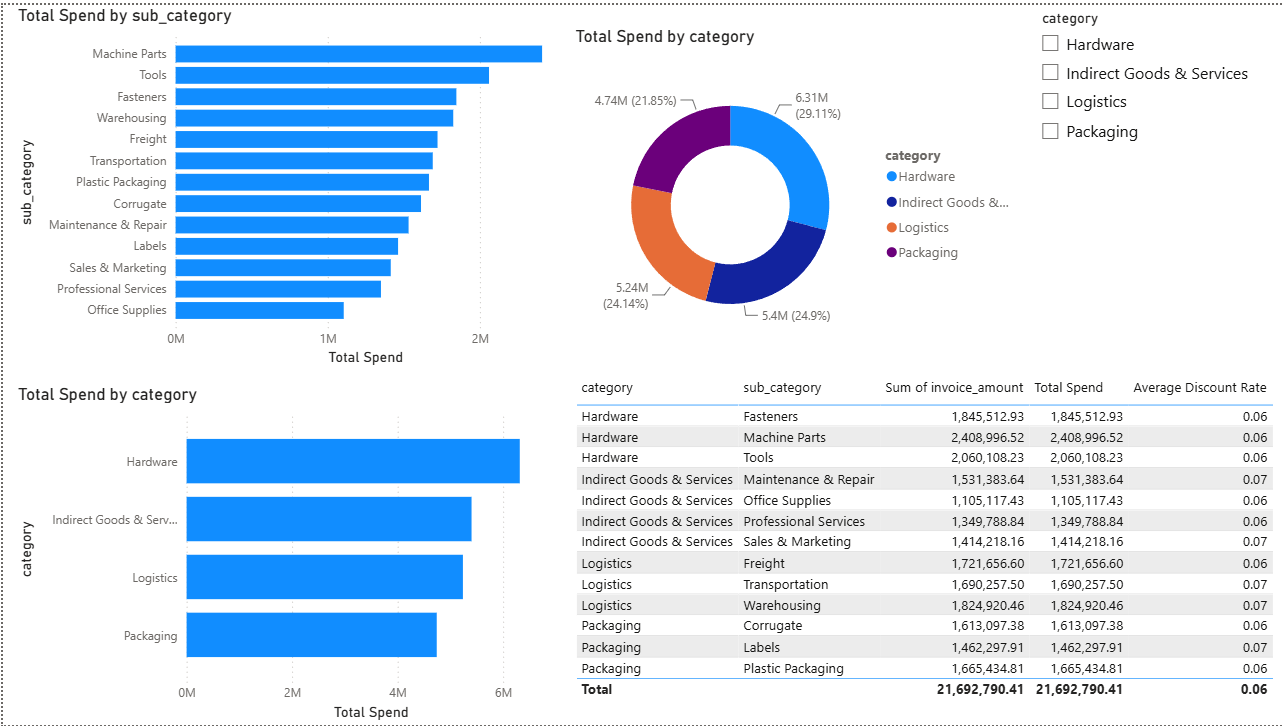

This screenshot's page, from the dashboard's own definition file:
{"tool":"powerbi","page":{"name":"Category Management","canvas":[1280,720],"ordinal":1},"visuals":[{"type":"clusteredBarChart","fields":{"Category":["cleaned_procurement_transactions.sub_category"],"Y":["cleaned_procurement_transactions.Total Spend"]},"box":[10,0,557.1,365.7],"z":0},{"type":"clusteredBarChart","fields":{"Category":["cleaned_procurement_transactions.category"],"Y":["cleaned_procurement_transactions.Total Spend"]},"box":[10,378.6,557.1,341.4],"z":1000},{"type":"donutChart","fields":{"Category":["cleaned_procurement_transactions.category"],"Y":["cleaned_procurement_transactions.Total Spend"]},"box":[567.1,21.4,452.9,338.6],"z":2000},{"type":"tableEx","fields":{"Values":["cleaned_procurement_transactions.category","cleaned_procurement_transactions.sub_category","Sum(cleaned_procurement_transactions.invoice_amount)","Sum(cleaned_procurement_transactions.discount_rate)","cleaned_procurement_transactions.Total Spend"]},"box":[567.1,365.7,712.9,354.3],"z":2001},{"type":"slicer","fields":{"Values":["cleaned_procurement_transactions.category"]},"box":[1025.7,0,254.3,365.7],"z":2002}]}

Visuals, with their boxes in screenshot pixels (x1, y1, x2, y2), scaled from the page's 1280x720 canvas onto the 1282x726 screenshot:
clusteredBarChart - cleaned_procurement_transactions.sub_category x cleaned_procurement_transactions.Total Spend: pyautogui.locateOnScreen(10, 0, 568, 369)
clusteredBarChart - cleaned_procurement_transactions.category x cleaned_procurement_transactions.Total Spend: pyautogui.locateOnScreen(10, 382, 568, 725)
donutChart - cleaned_procurement_transactions.category x cleaned_procurement_transactions.Total Spend: pyautogui.locateOnScreen(568, 22, 1022, 363)
tableEx - cleaned_procurement_transactions.category x cleaned_procurement_transactions.sub_category: pyautogui.locateOnScreen(568, 369, 1281, 725)
slicer - cleaned_procurement_transactions.category: pyautogui.locateOnScreen(1027, 0, 1281, 369)
